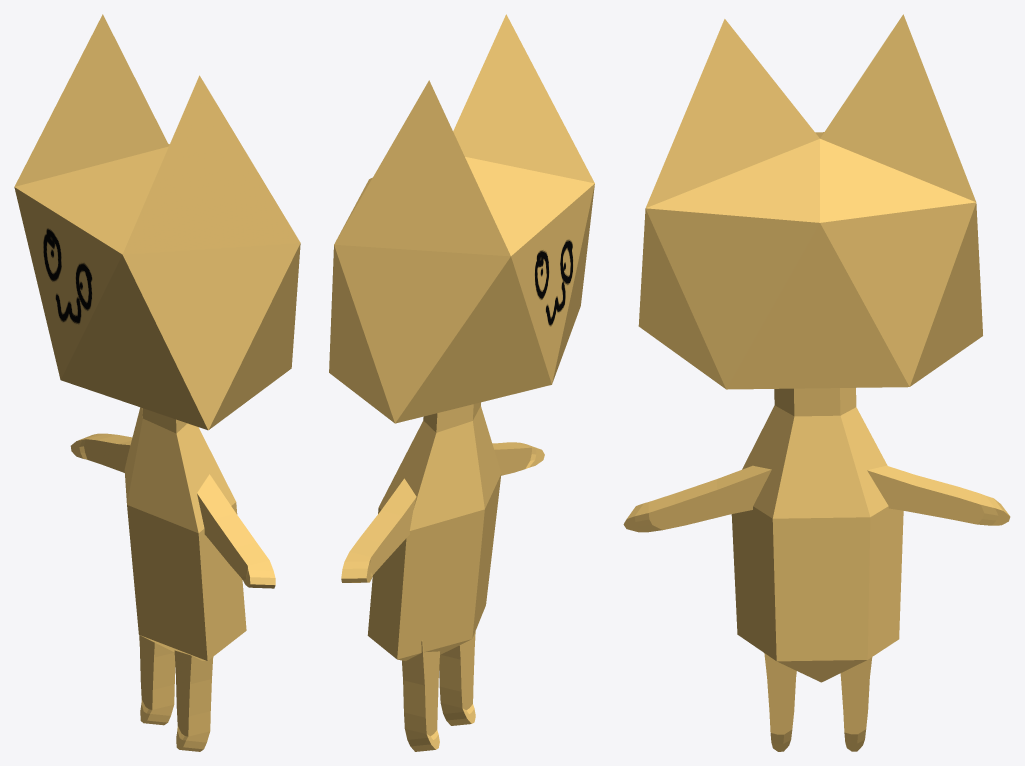
File: Charactermeshnew.fbx
The picture shows the model from 3 angles, left to right: view 1: azimuth 30°, elevation 25°; view 2: azimuth 150°, elevation 25°; view 3: azimuth 270°, elevation 25°; orthographic projection. The views are drawn at different scales.
Parts seen in each view (by area): view 1: Icosphere; view 2: Icosphere; view 3: Icosphere.
Boxes of the visible parts, x1,y1,x2,y2 form: Icosphere: (14,14,300,751); Icosphere: (329,14,594,751); Icosphere: (623,14,1010,751).
Size of the model in its own units: 109 by 388 by 189.
